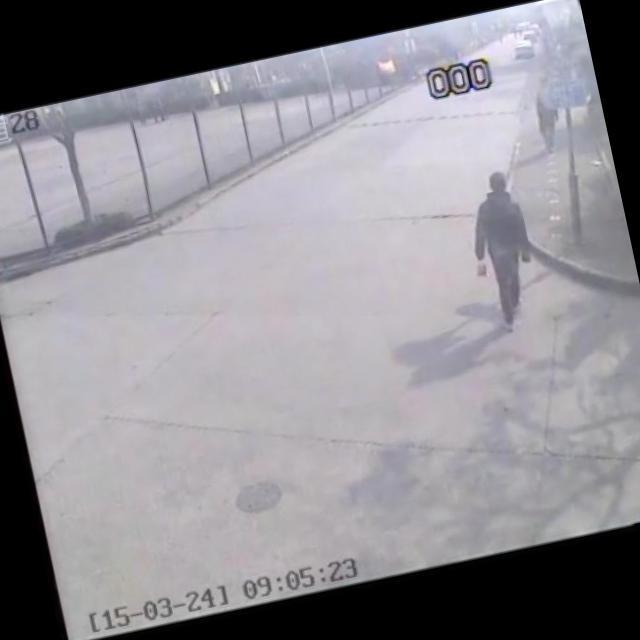person: (450, 157, 568, 345), (521, 66, 580, 167)
